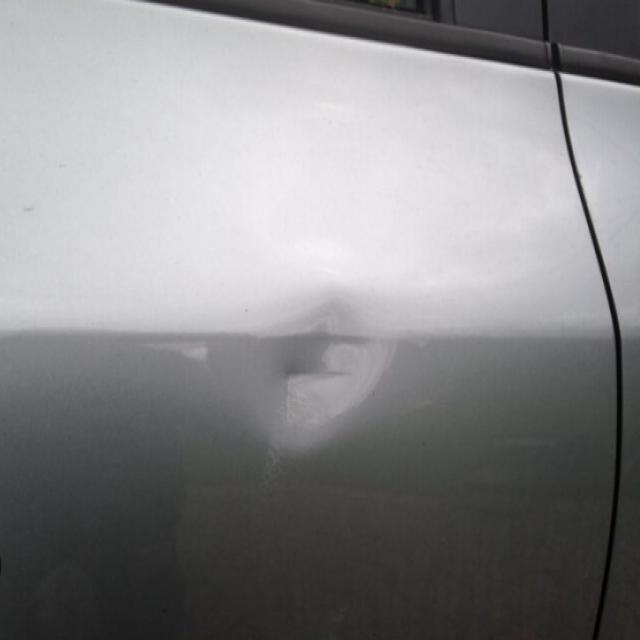dents: (240, 283, 390, 465)
